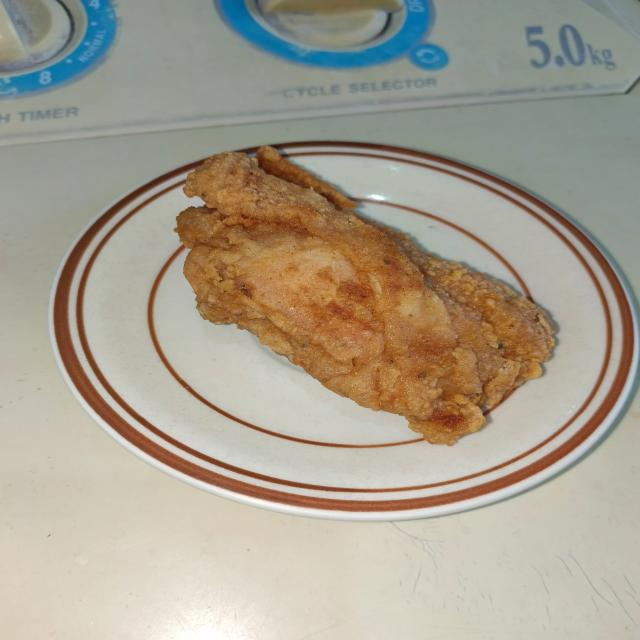Chicken -Fried Chicken-: (172, 129, 576, 456)
